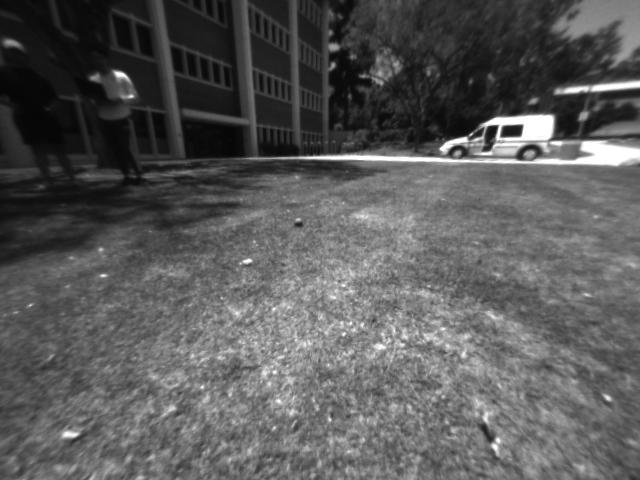dogtoy: (283, 207, 314, 233)
